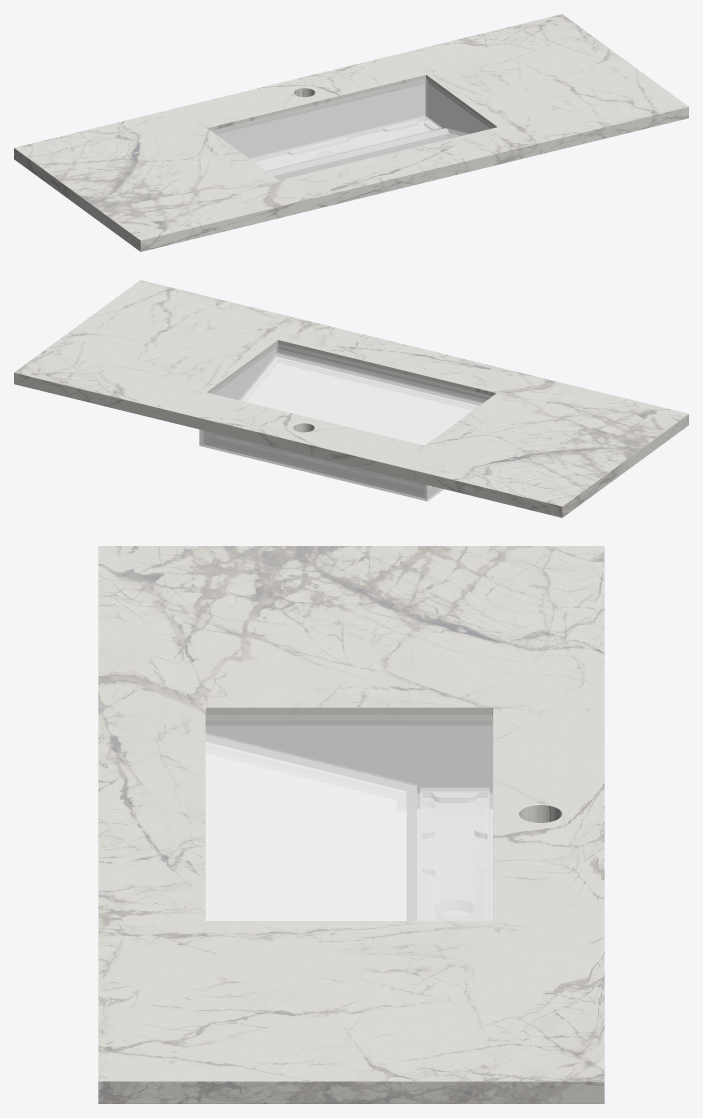
Rendered from GLS912_2.glb.
3 renders of one model, top to bottom at view 1: azimuth 30°, elevation 25°; view 2: azimuth 150°, elevation 25°; view 3: azimuth 270°, elevation 25°, orthographic. The views are drawn at different scales.
Parts seen in each view (by area): view 1: GLS 912|2 cer, GLS 912|2(встраиваемая); view 2: GLS 912|2 cer, GLS 912|2(встраиваемая); view 3: GLS 912|2 cer, GLS 912|2(встраиваемая).
Part boxes in pixels (left/top/right/bottom): GLS 912|2 cer: left=14, top=14, right=688, bottom=251; GLS 912|2(встраиваемая): left=211, top=78, right=493, bottom=180; GLS 912|2 cer: left=14, top=280, right=688, bottom=517; GLS 912|2(встраиваемая): left=199, top=343, right=492, bottom=501; GLS 912|2 cer: left=98, top=546, right=604, bottom=1103; GLS 912|2(встраиваемая): left=205, top=715, right=492, bottom=920.
Size of the model in its own units: 1.5 by 0.138 by 0.6.
3 materials, 1 textured.
